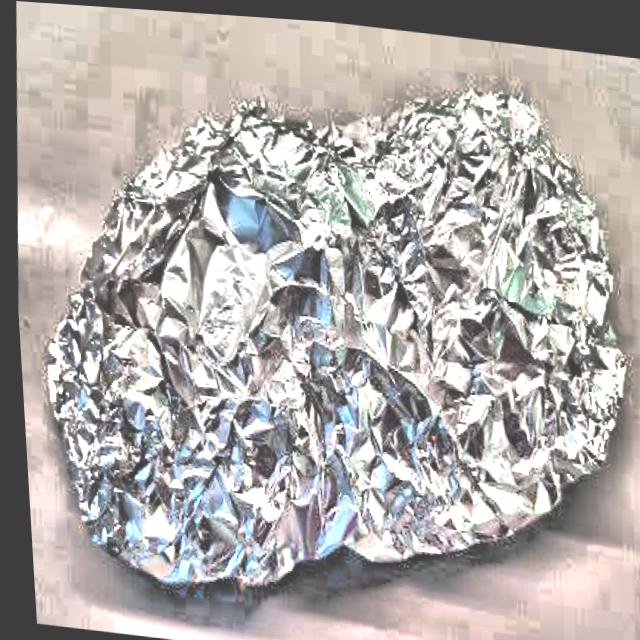Foil: (10, 25, 640, 640)
